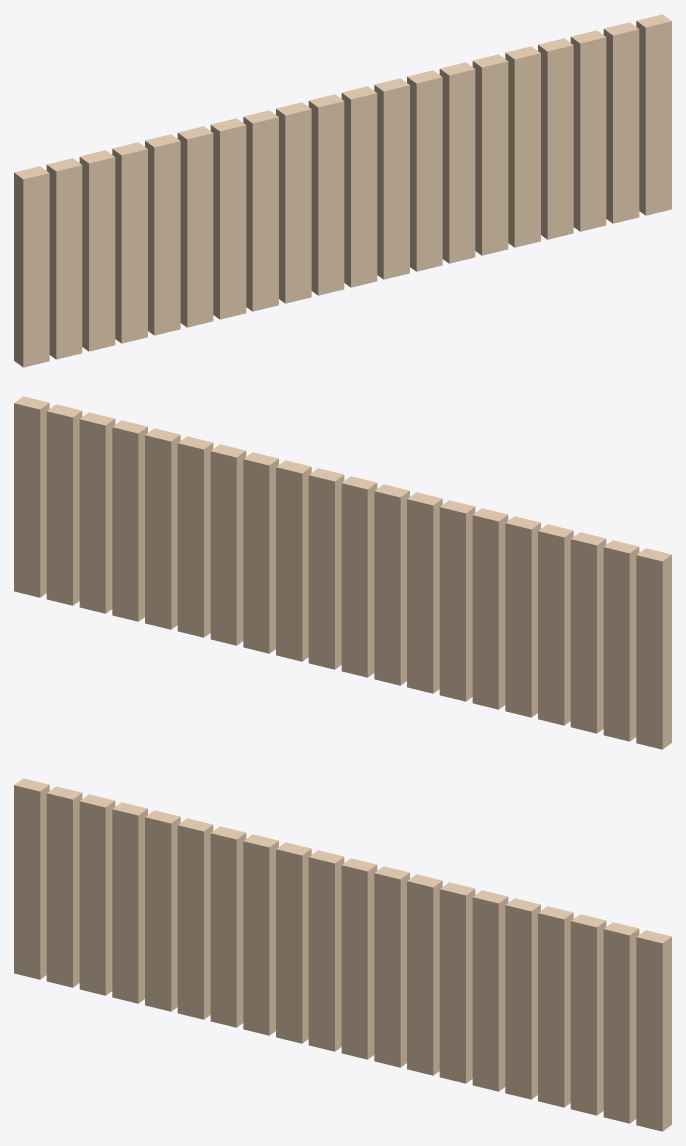
The model's file is Module_Wood_railings.001.glb.
The picture shows the model from 3 angles, top to bottom: view 1: azimuth 30°, elevation 25°; view 2: azimuth 150°, elevation 25°; view 3: azimuth 330°, elevation 25°; orthographic projection.
Visible parts, largest first — view 1: Module_Wood_railings.001; view 2: Module_Wood_railings.001; view 3: Module_Wood_railings.001.
Part boxes in pixels (box(x1,y1,x2,y2)): Module_Wood_railings.001: box(14, 14, 671, 367); Module_Wood_railings.001: box(14, 396, 671, 749); Module_Wood_railings.001: box(14, 778, 671, 1131).
Size of the model in its own units: 1.98 by 0.5491 by 0.05.
